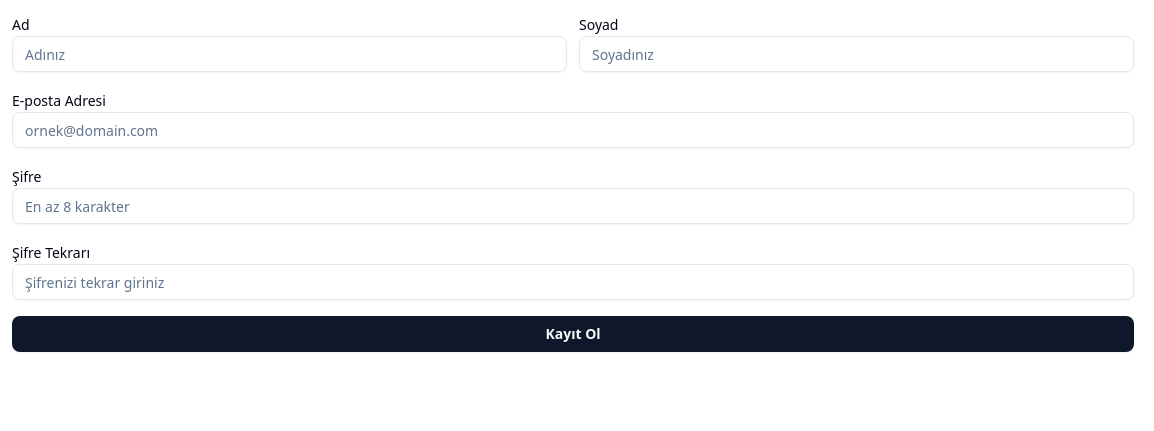
Test: RegisterForm › displays global error banner when registration fails on the server
This screenshot has width=1154, height=431.
Type "Berkant" into the field labelled "Ad" at (290, 54), box [12,36,567,72]
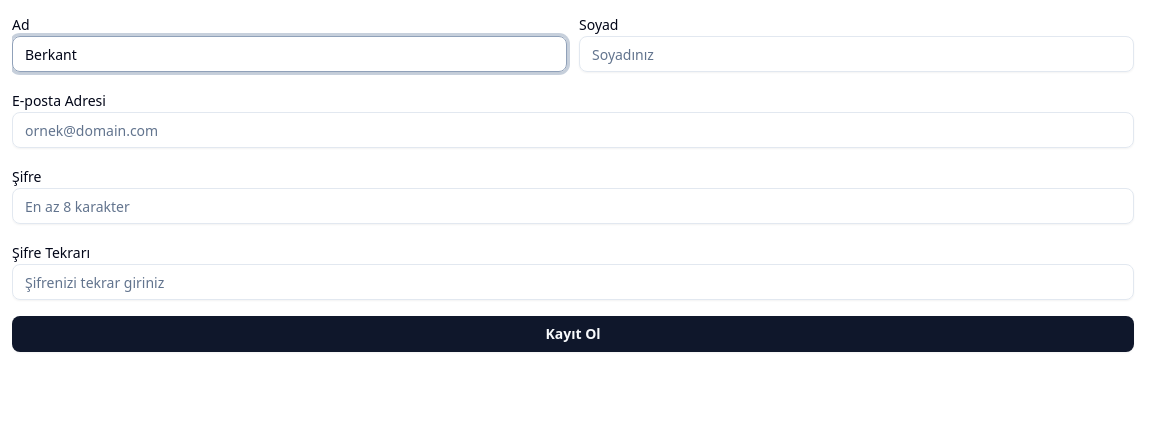
Type "Güngör" into the field labelled "Soyad" at (856, 54), box [579,36,1134,72]
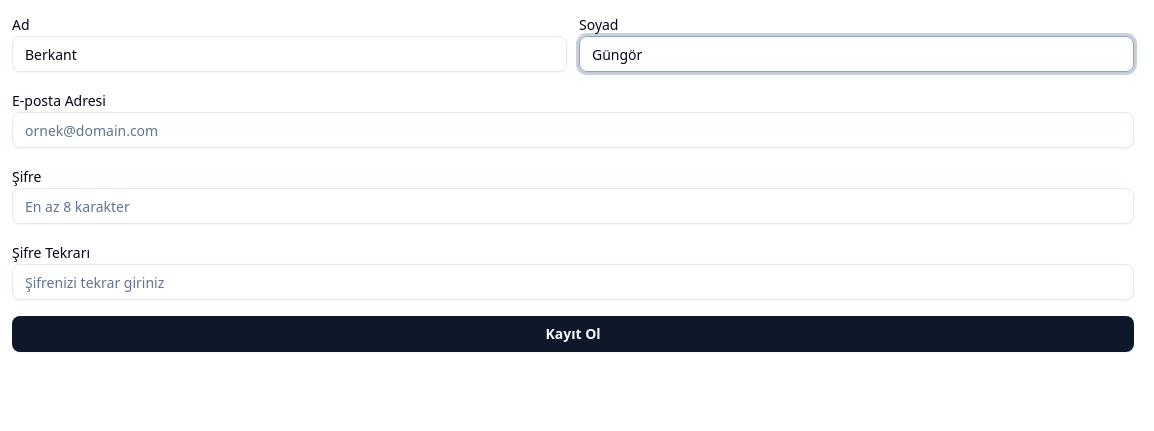
Type "existing@domain.com" into the field labelled "E-posta Adresi" at (573, 130), box [12,112,1134,148]
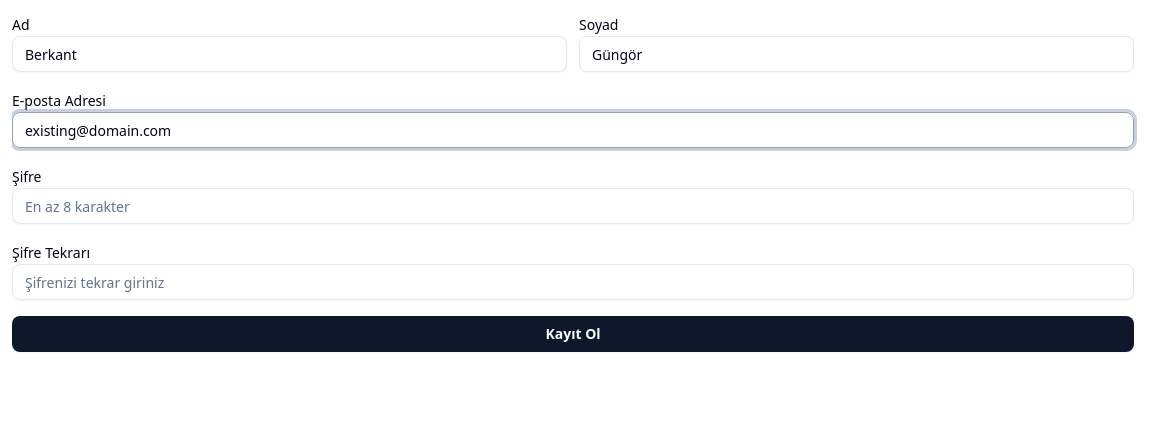
Type "Password123!" into the password field labelled "Şifre" at (573, 206), box [12,188,1134,224]
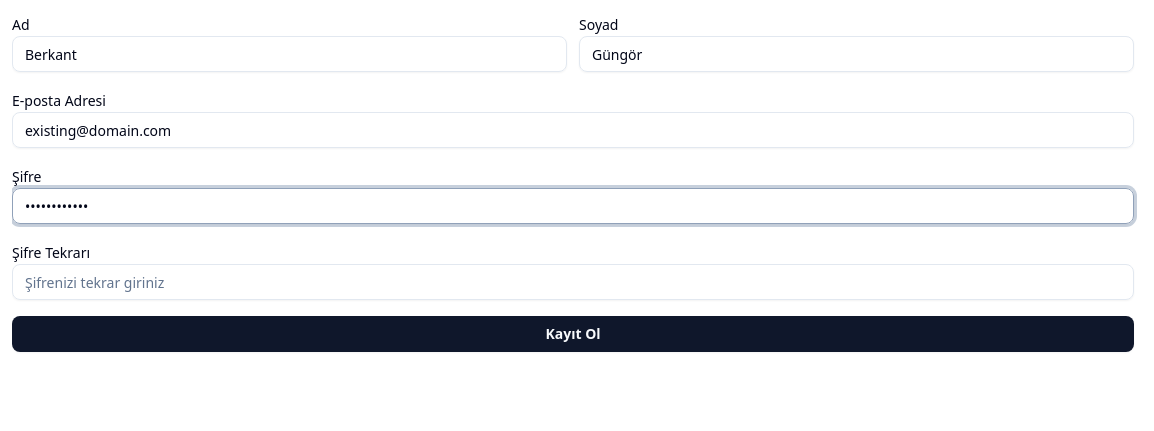
Type "Password123!" into the password field labelled "Şifre Tekrarı" at (573, 282), box [12,264,1134,300]
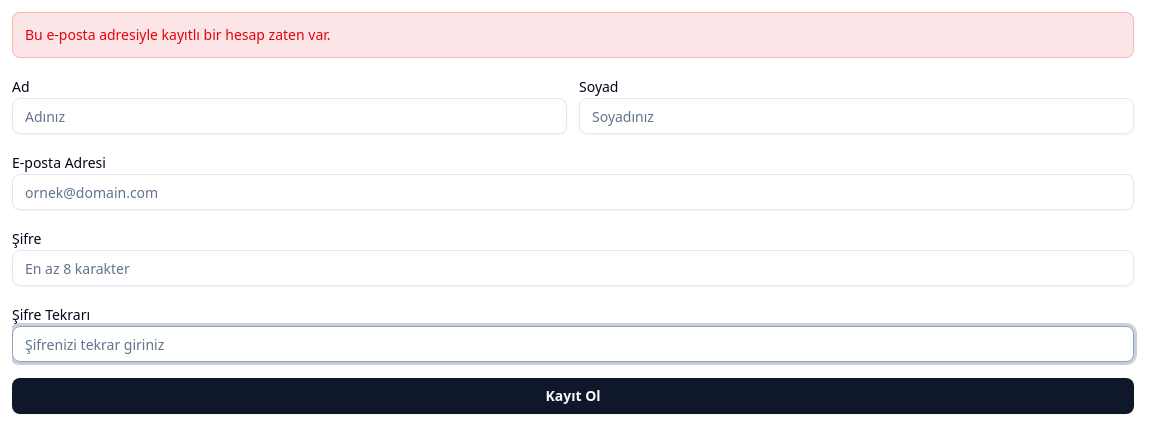
expect the text "Bu e-posta adresiyle kayıtlı bir hesap zaten var." is shown: met, box [12,12,1134,58]
